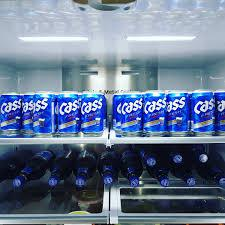beer: (2, 90, 225, 139), (3, 146, 225, 193)
